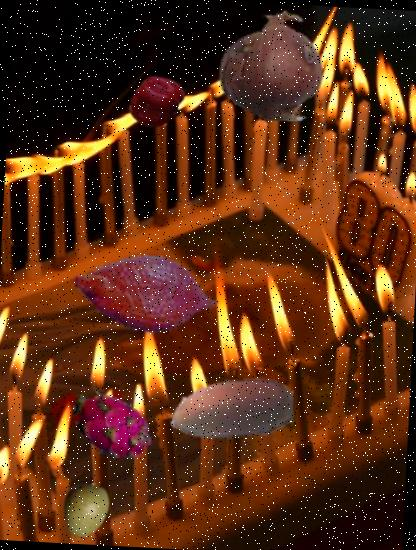Hazelnut: (165, 341, 296, 472)
Onion: (213, 7, 330, 124)
Pear: (55, 480, 118, 544)
Pepper: (127, 72, 188, 132)
Pitahaya: (66, 382, 157, 473)
Salak: (70, 218, 224, 370)
